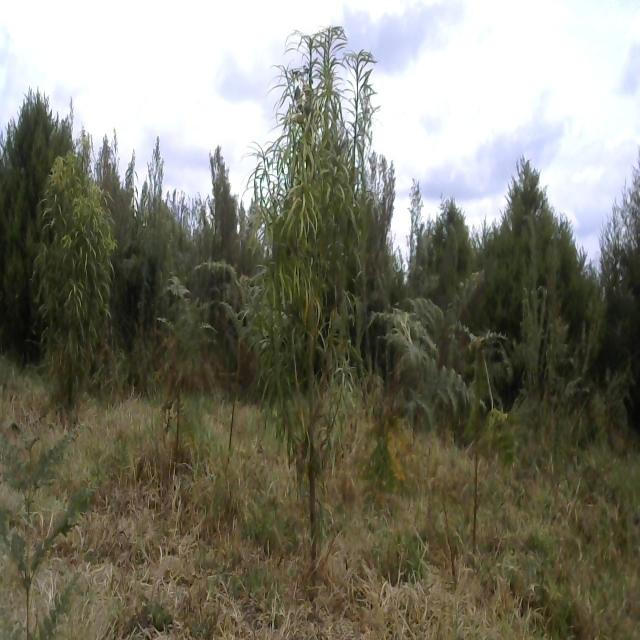Juniperus procesera: (0, 81, 80, 331), (495, 143, 578, 281)
Podocarpus falcatus: (248, 28, 374, 580), (47, 153, 111, 435)
